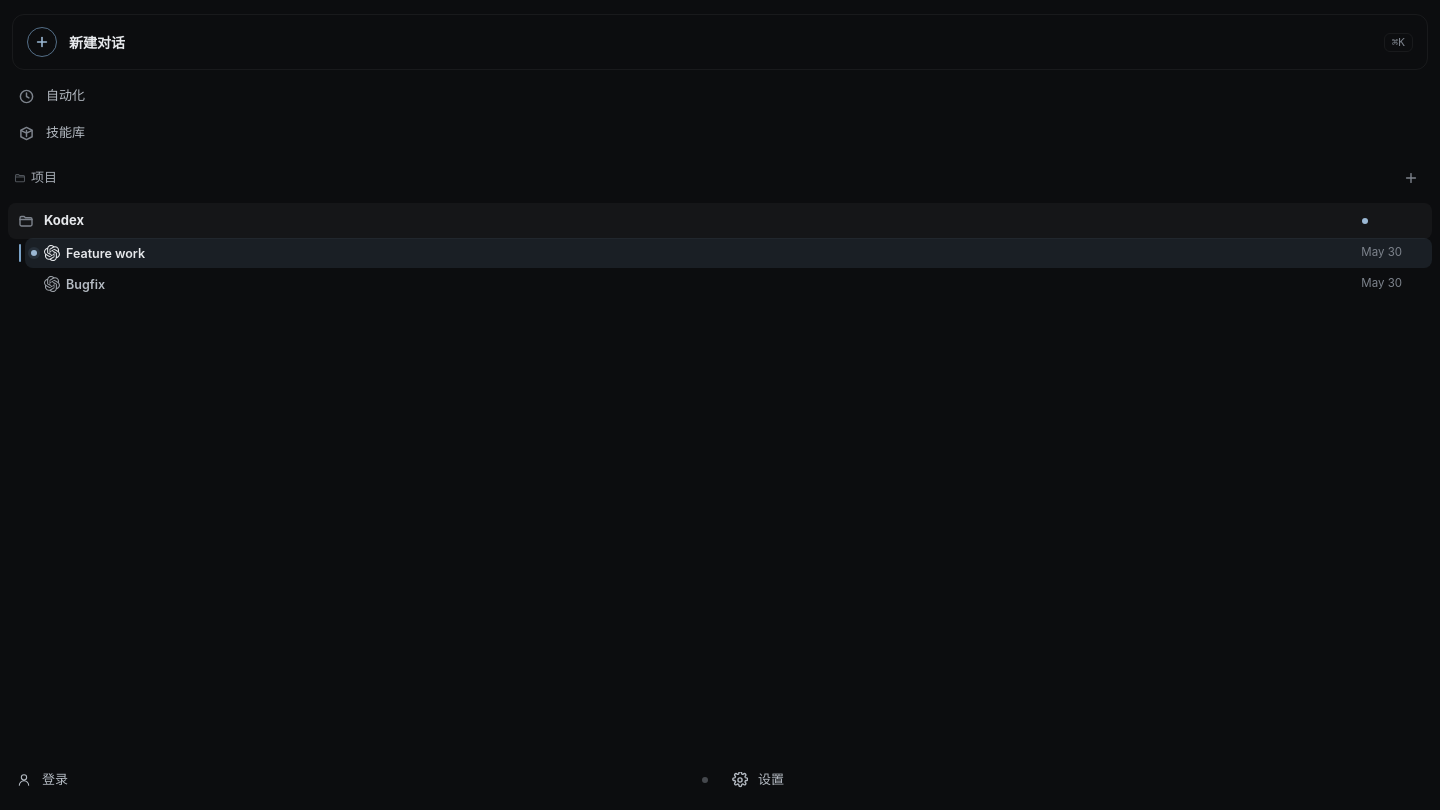
Test: SessionList agent picker › collapses and expands a workspace session list via the folder toggle
Expected: the text "Feature work" is shown, 66,246 -> 145,260
Expected: the text "Bugfix" is shown, 66,276 -> 105,292
Click the button named "折叠 Kodex 的会话列表".
click(26, 221)  # box 17,203 -> 35,239
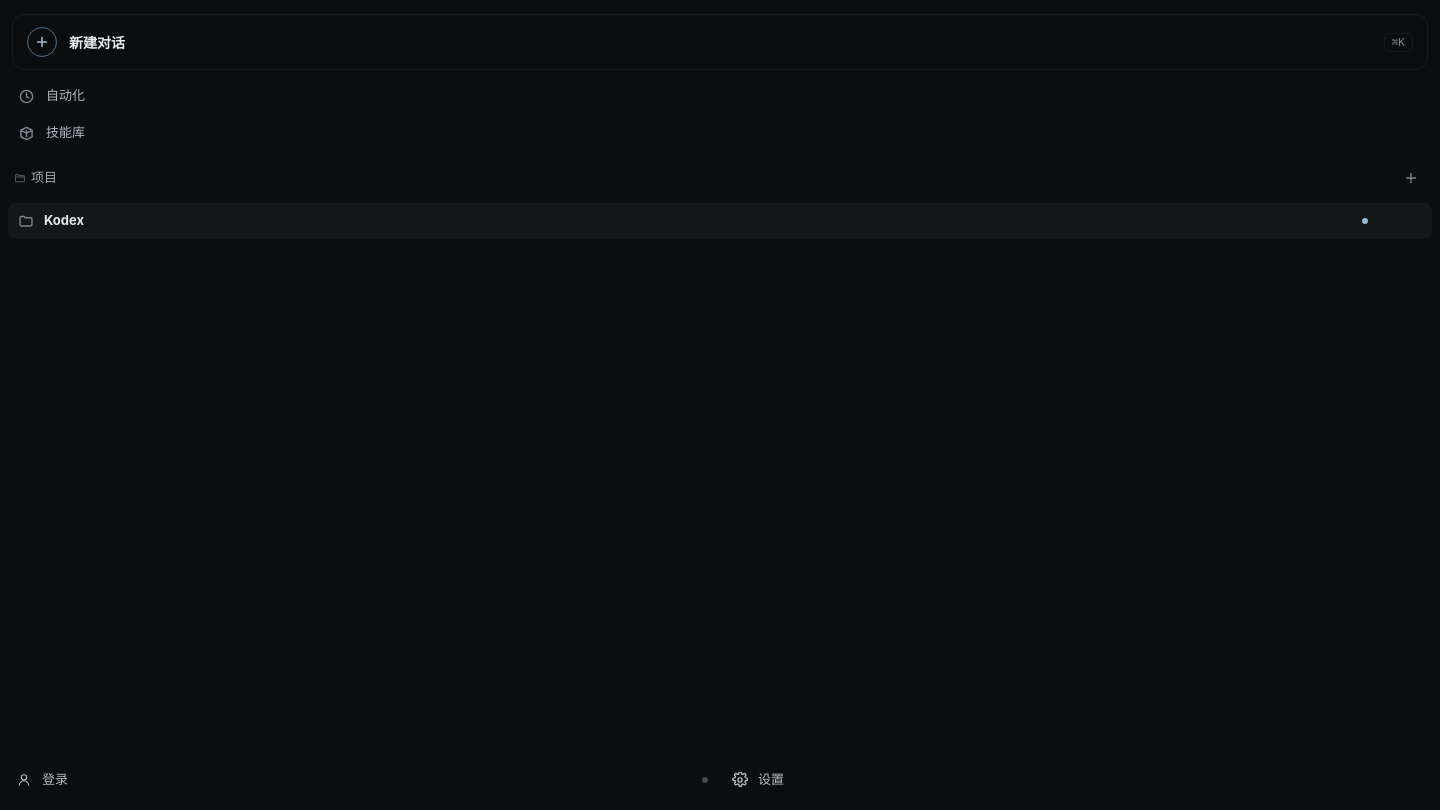
Result: the button "Feature work" is gone
Result: the button "Bugfix" is gone
Click the button named "展开 Kodex 的会话列表".
click(26, 221)  # box 17,203 -> 35,239
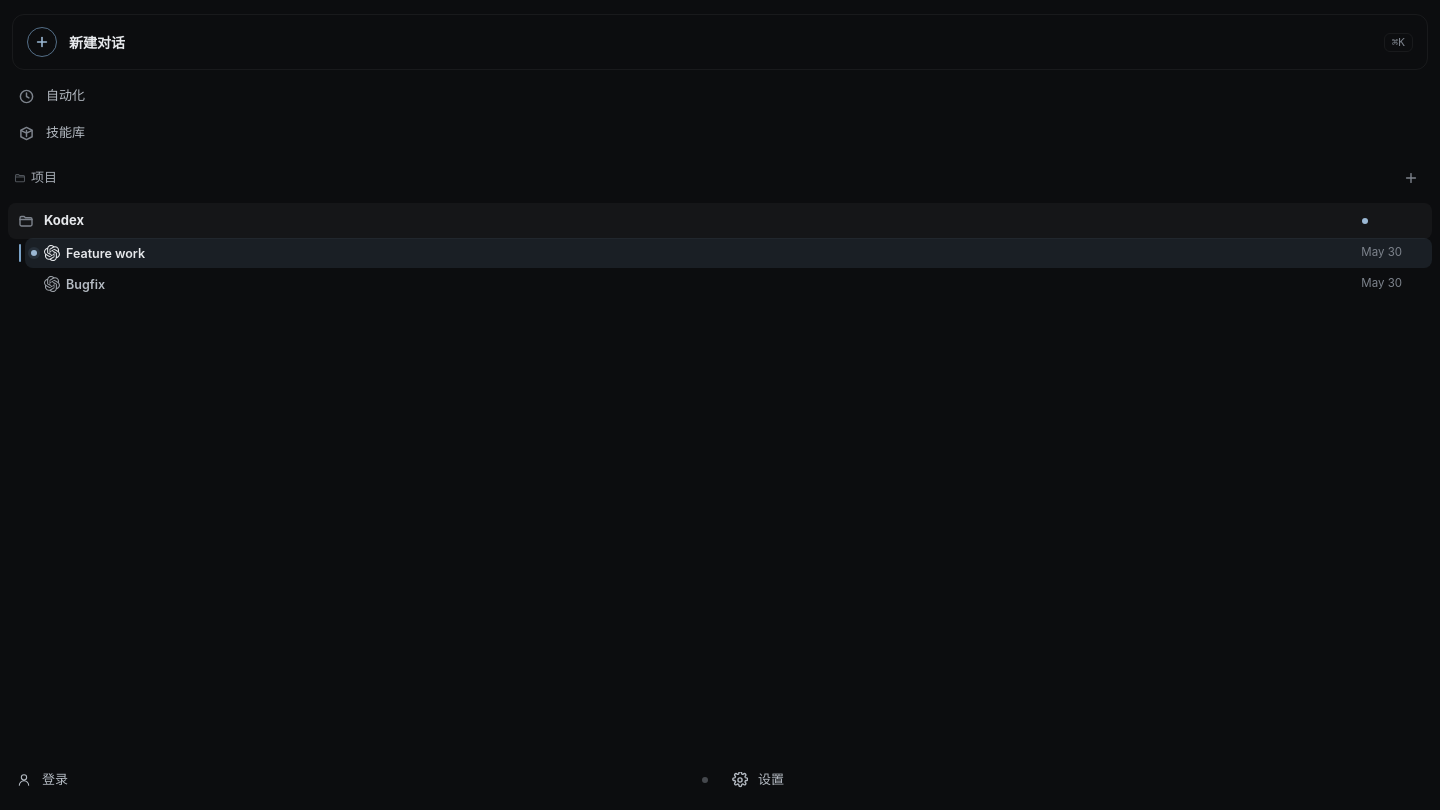
Result: the text "Feature work" is shown at 66,246 -> 145,260
Result: the text "Bugfix" is shown at 66,276 -> 105,292
